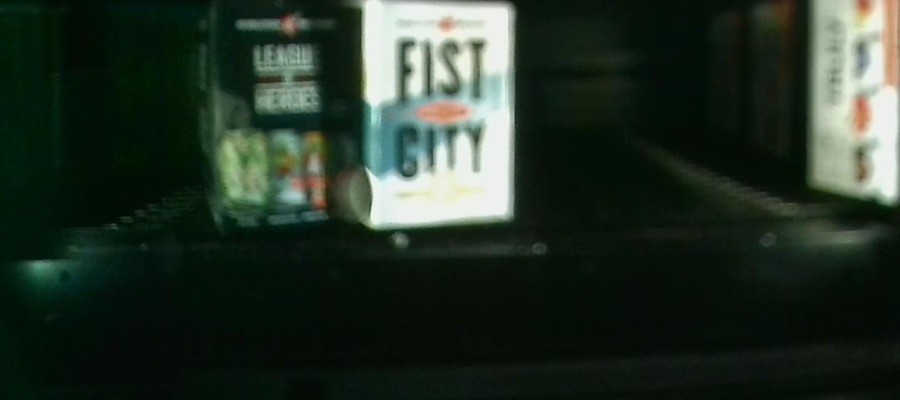bottle: (358, 2, 514, 222), (194, 6, 338, 227)
